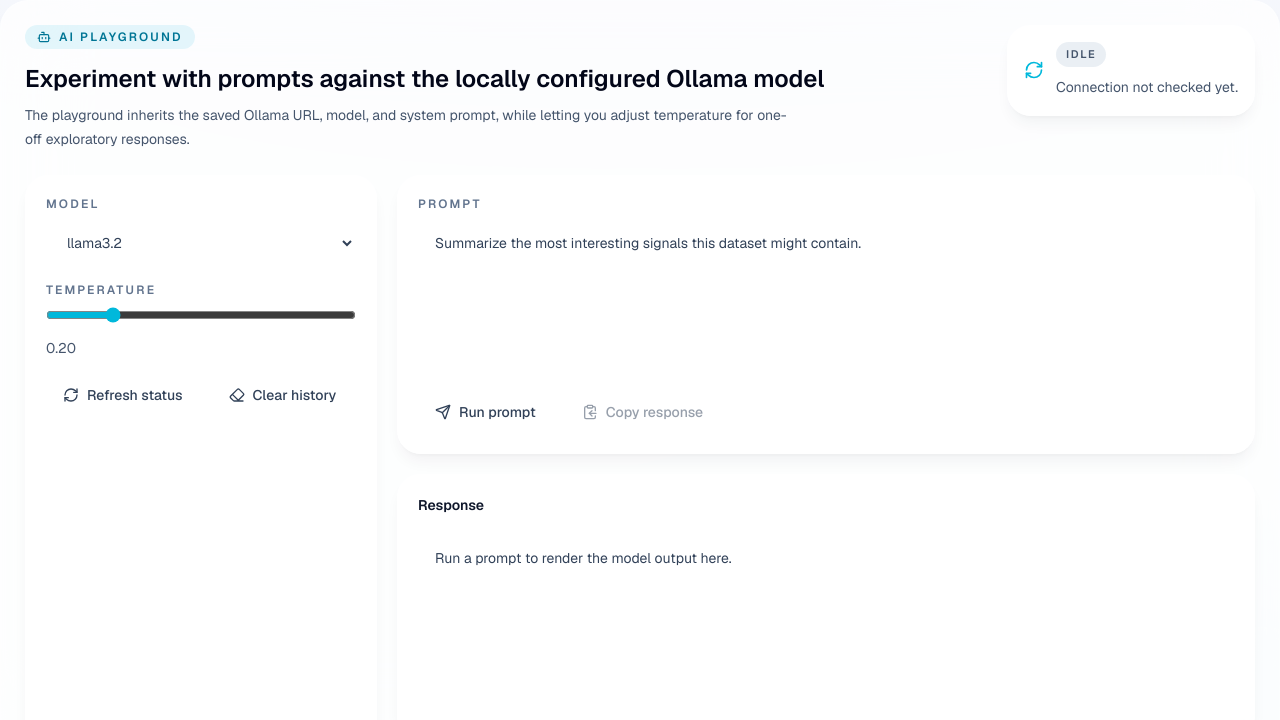
AiPlayground › runs a prompt, persists the response, and enables copying
Replace the text in the text box labelled "Prompt" with "Explain the revenue spike" at (826, 292), box [418, 220, 1234, 364]
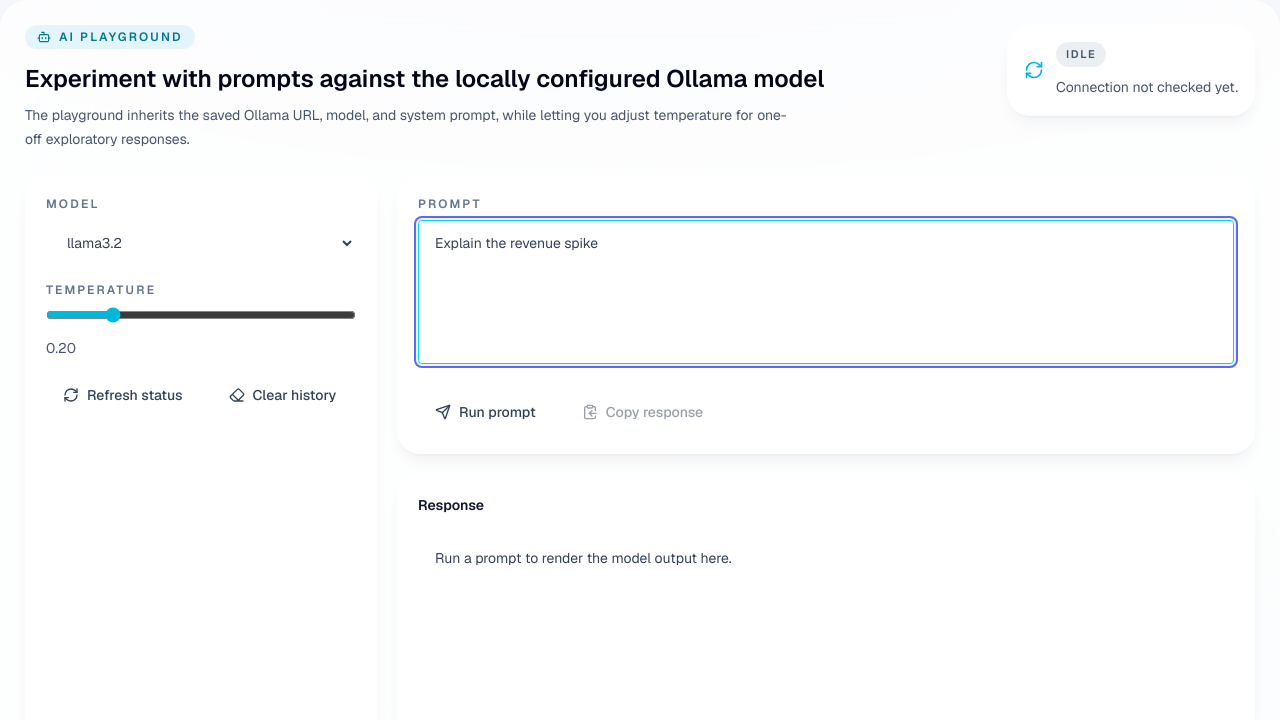
Click the button "Run prompt" at (485, 412), box [418, 391, 553, 433]
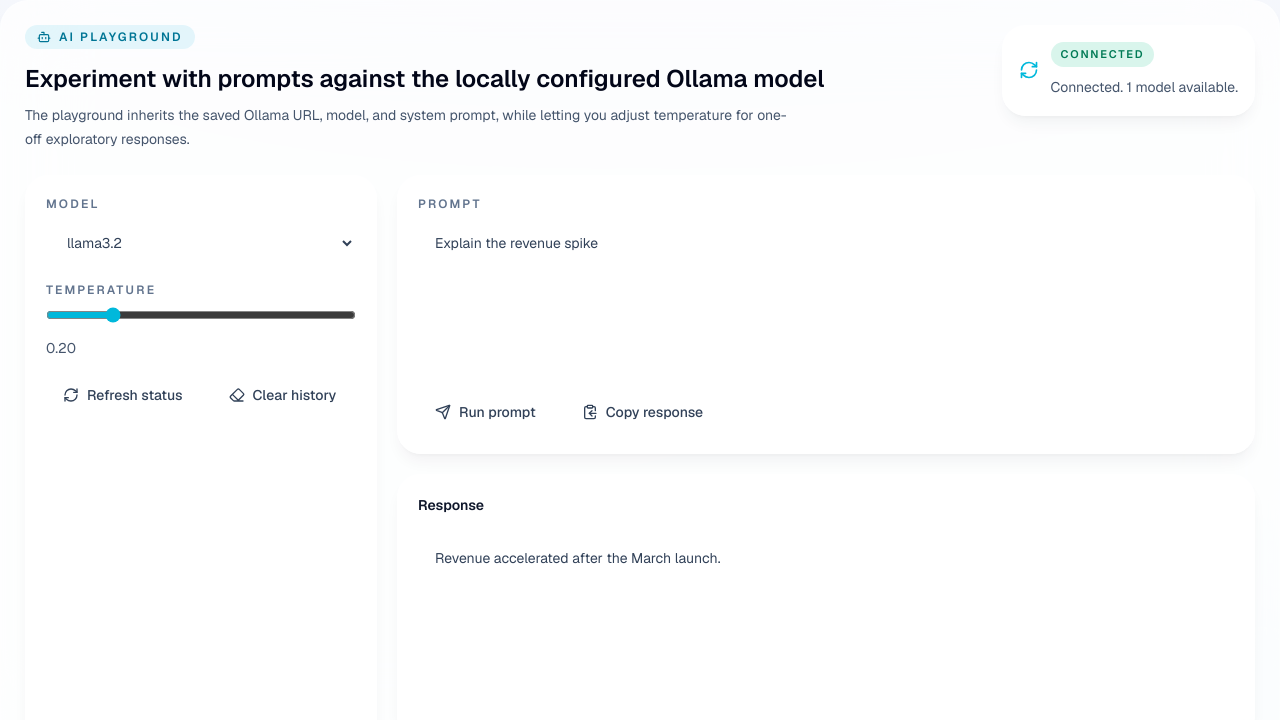
Expected: the text "Revenue accelerated after the March launch." is shown, [418, 527, 1234, 719]
Expected: the button "Copy response" is enabled, [565, 391, 720, 433]
